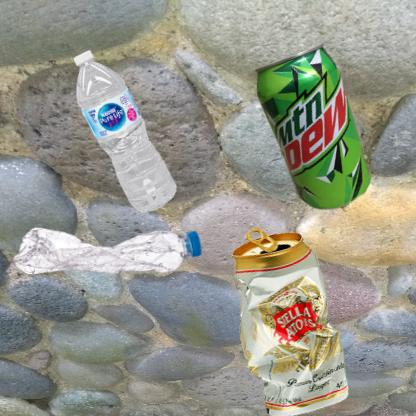botella: (10, 10, 264, 290), (10, 213, 206, 279)
lata: (213, 10, 416, 275), (213, 213, 376, 416)
